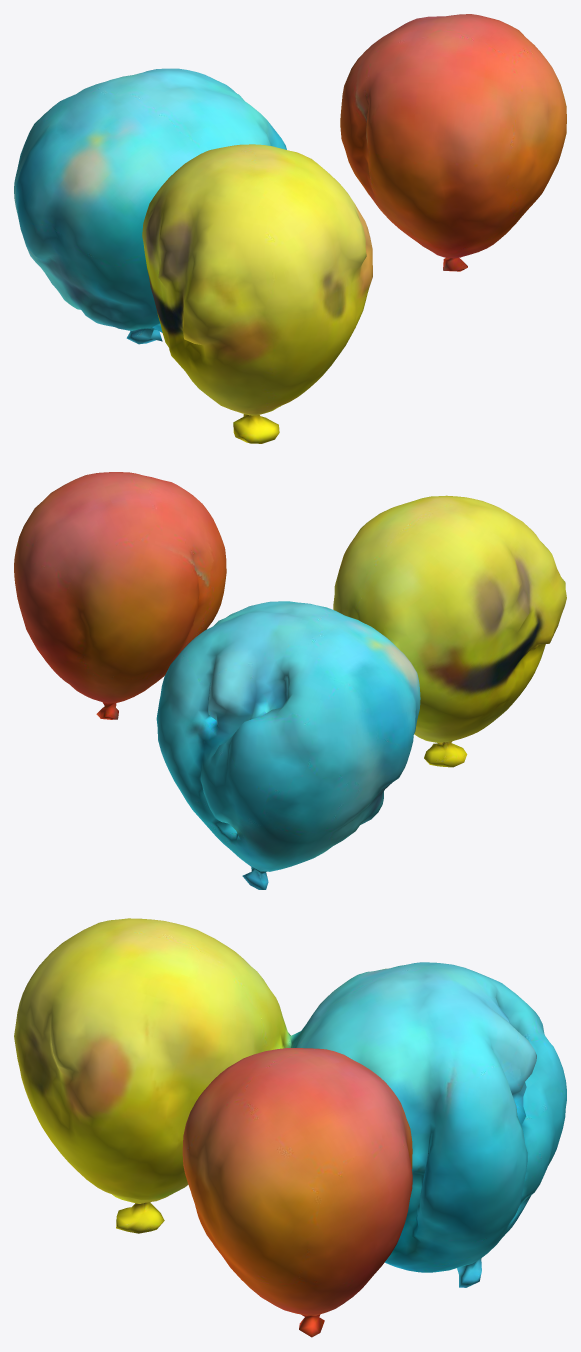
Rendered from balloons_with_smiley_faces_on_them_0426201028_preview.fbx.
The picture shows the model from 3 angles, top to bottom: view 1: azimuth 30°, elevation 25°; view 2: azimuth 150°, elevation 25°; view 3: azimuth 270°, elevation 25°; orthographic projection. The views are drawn at different scales.
Visible parts, largest first — view 1: Mesh1; view 2: Mesh1; view 3: Mesh1.
Boxes of the visible parts, x1,y1,x2,y2 form: Mesh1: (14,14,566,443); Mesh1: (14,472,566,889); Mesh1: (14,918,566,1337).
Size of the model in its own units: 120 by 78.55 by 115.
1 material, 1 textured.
